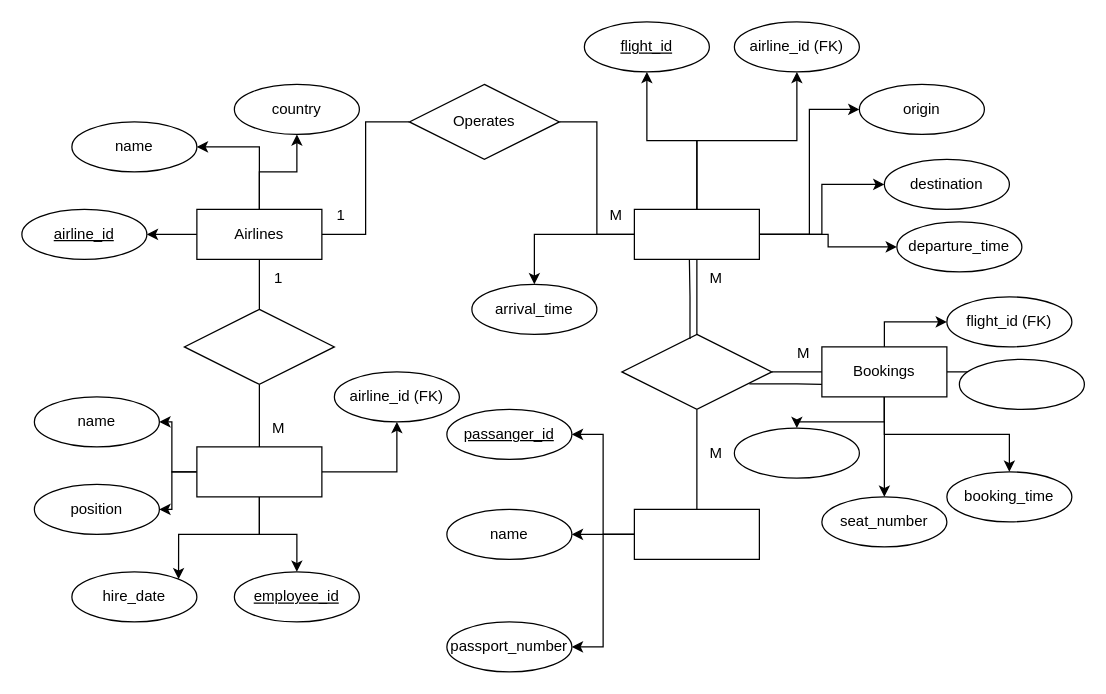
This 1106x694 diagram has some shape labels left out. The centre of each missing label's shape, as x and y in pixels:
"booking_id" goes at (x=796, y=452).
"Books" goes at (x=696, y=371).
"Employees" goes at (x=259, y=471).
"Flights" goes at (x=696, y=233).
"Passangers" goes at (x=696, y=533).
"passenger_id (FK)" goes at (x=1021, y=383).
"Works for" goes at (x=258, y=346).
